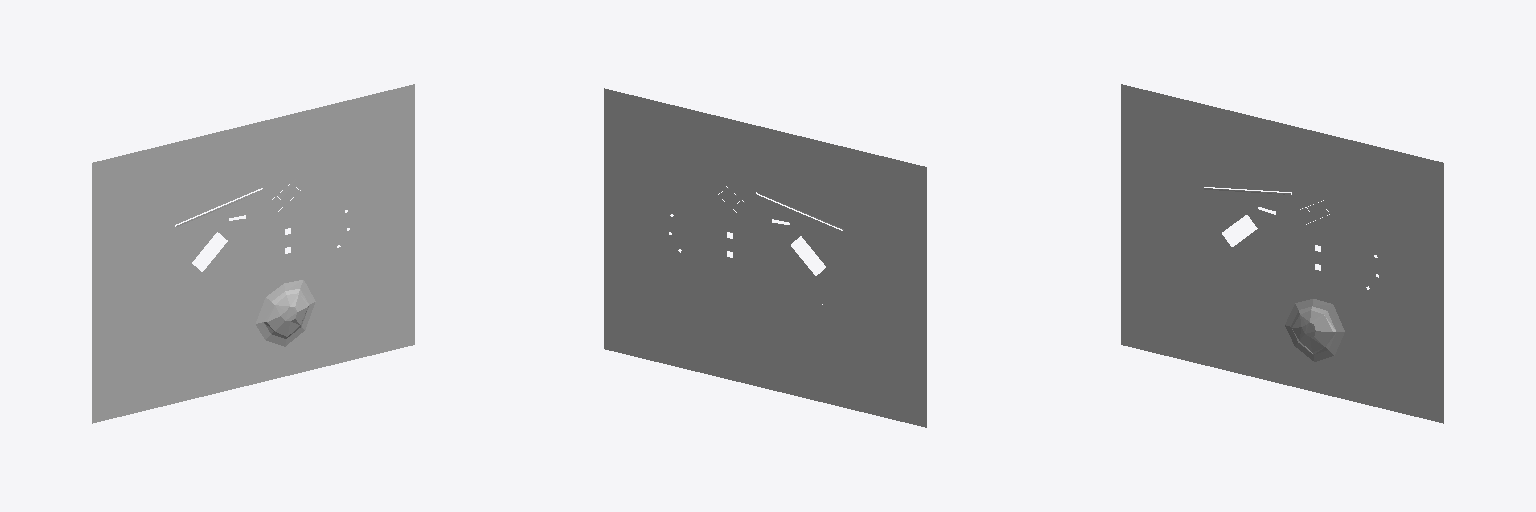
File: ConstructionContactSurfaces.obj
The picture shows the model from 3 angles: view 1: azimuth 30°, elevation 25°; view 2: azimuth 150°, elevation 25°; view 3: azimuth 330°, elevation 25°; orthographic projection.
Parts seen in each view (by area): view 1: pCube8; view 2: pCube8; view 3: pCube8.
Boxes of the visible parts, <box> form: pCube8: <box>92,84,414,423</box>; pCube8: <box>604,88,926,427</box>; pCube8: <box>1121,84,1443,423</box>.
Size of the model in its own units: 50.16 by 38.74 by 1.52.